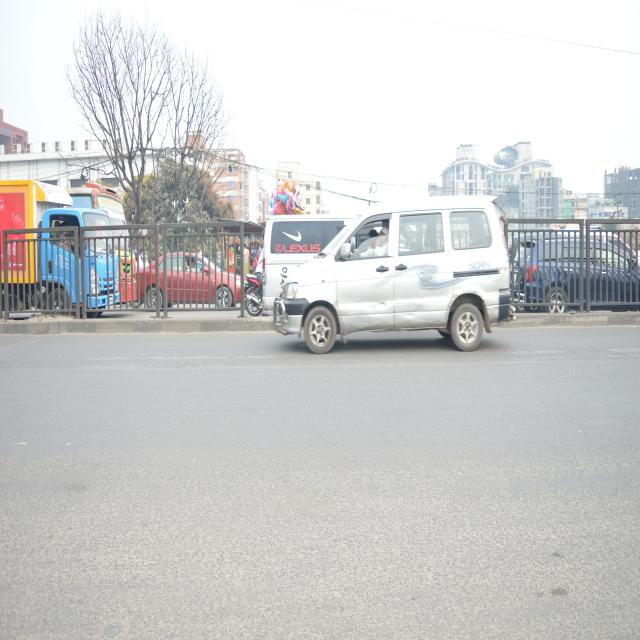car: (508, 220, 640, 327), (141, 245, 238, 323)
microbus: (274, 202, 512, 355), (262, 213, 341, 308)
motorbike: (243, 257, 262, 324)
pickup-van: (0, 175, 114, 332)
